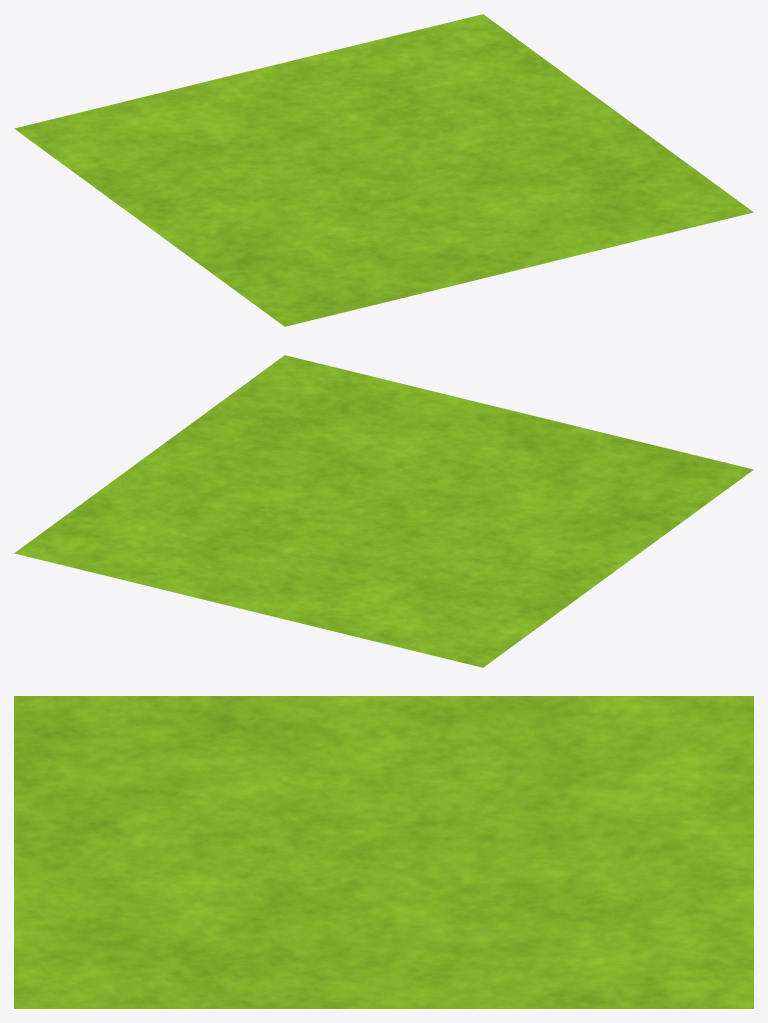
File: grass1.glb
3 views of the same model, one above another, from view 1: azimuth 30°, elevation 25°; view 2: azimuth 150°, elevation 25°; view 3: azimuth 270°, elevation 25° (orthographic). The views are drawn at different scales.
Parts seen in each view (by area): view 1: ground; view 2: ground; view 3: ground.
Boxes of the visible parts, bbox=[...] form: ground: bbox=[14, 14, 753, 326]; ground: bbox=[14, 355, 753, 667]; ground: bbox=[14, 696, 753, 1008].
Size of the model in its own units: 2 by 0 by 2.
1 material, 1 textured.
